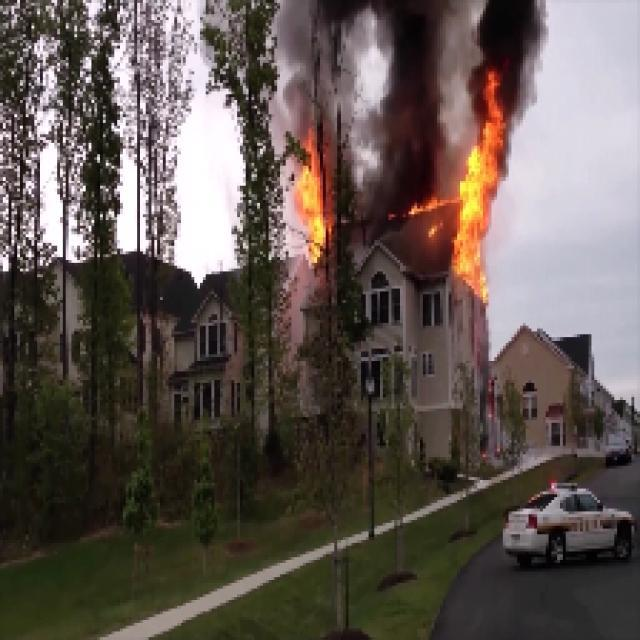Fire: (445, 117, 503, 289), (296, 152, 328, 252)
Smoke: (378, 0, 434, 218), (490, 5, 538, 110)
